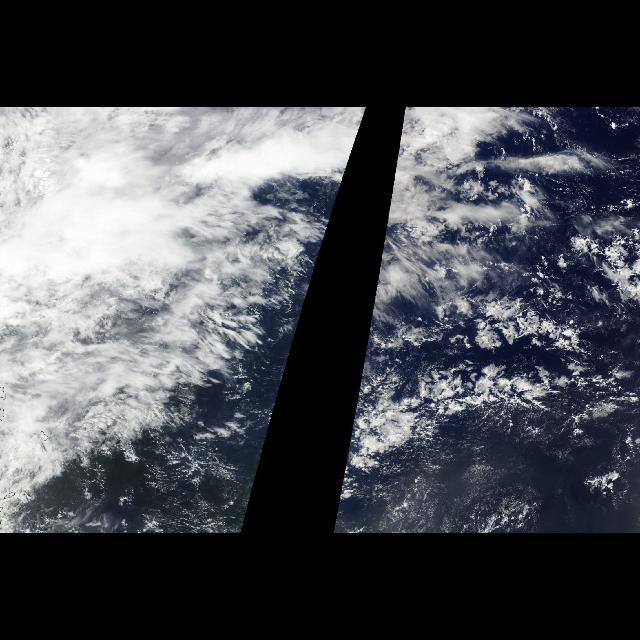Fish: (340, 362, 640, 490)
